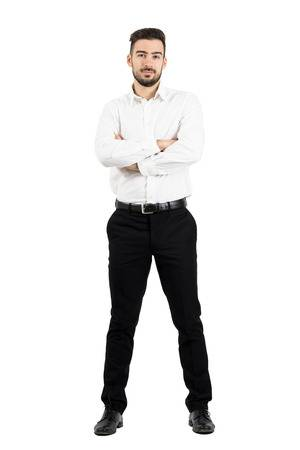F_belt: (114, 200, 190, 217)
F_dress pants: (90, 194, 217, 410)
F_shirt: (95, 86, 203, 203)
